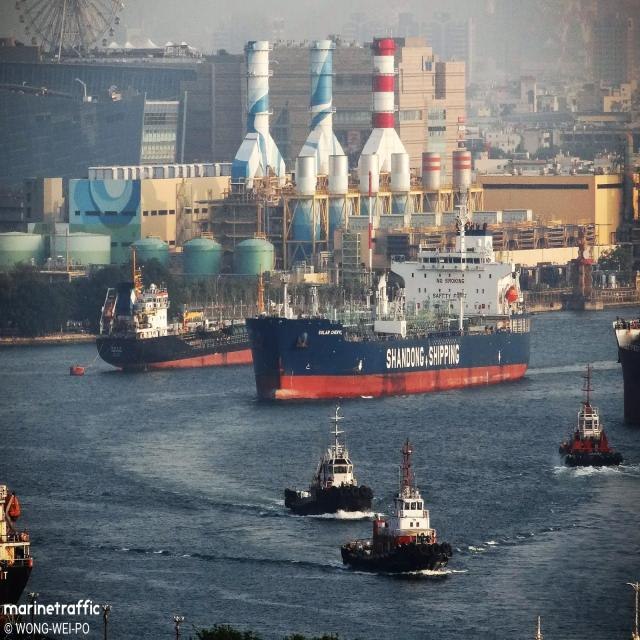Tanker: (246, 205, 530, 399), (96, 283, 251, 371)
Tug: (341, 441, 452, 572), (284, 405, 373, 515), (559, 366, 622, 466)
